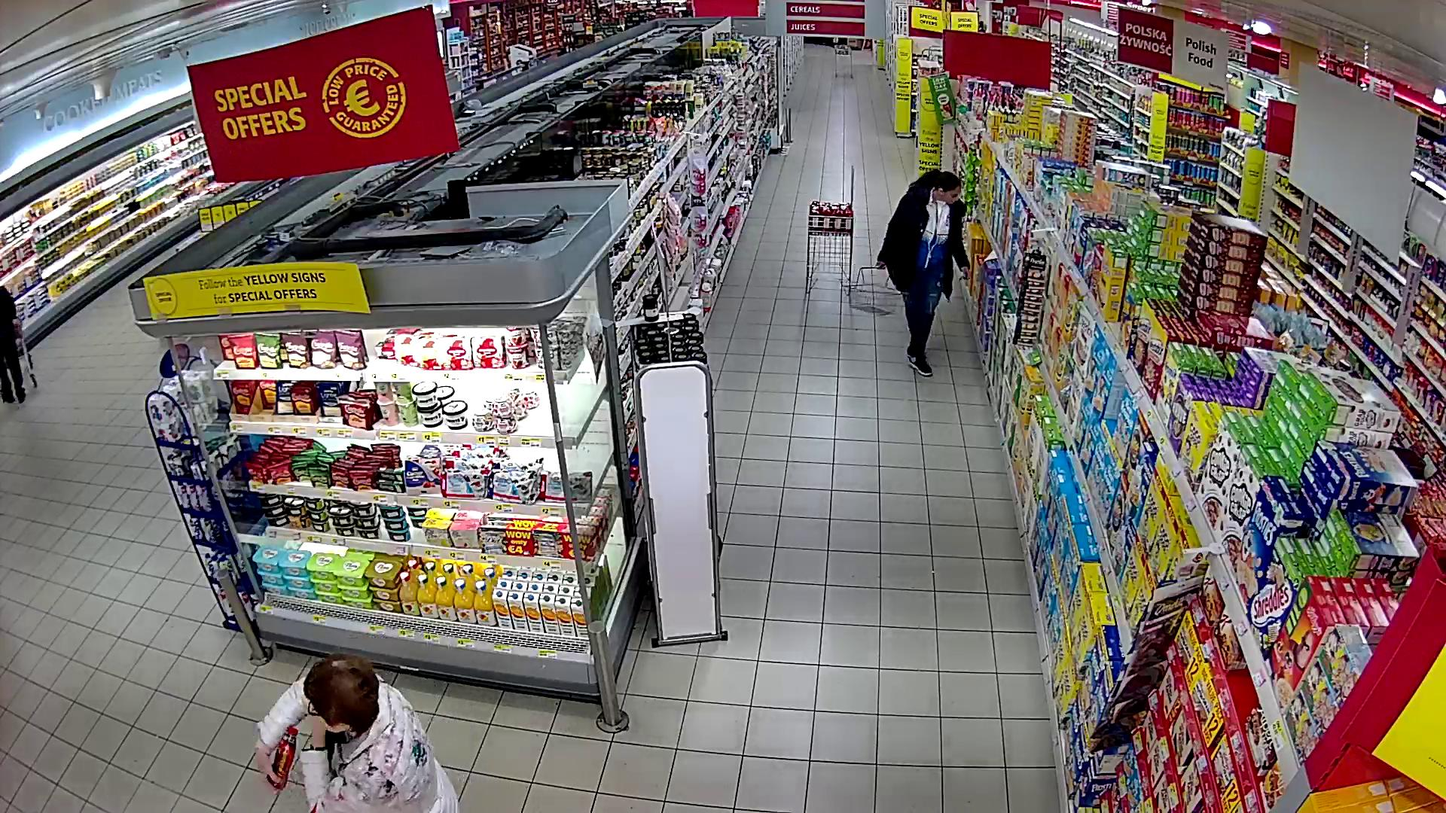carrying-item: (267, 726, 299, 790)
empty-basket: (844, 264, 904, 317)
person: (257, 652, 459, 813), (877, 171, 971, 377)
person-with-carrying-item: (257, 650, 457, 813)
person-with-empty-basket-trolly: (843, 171, 971, 377)
